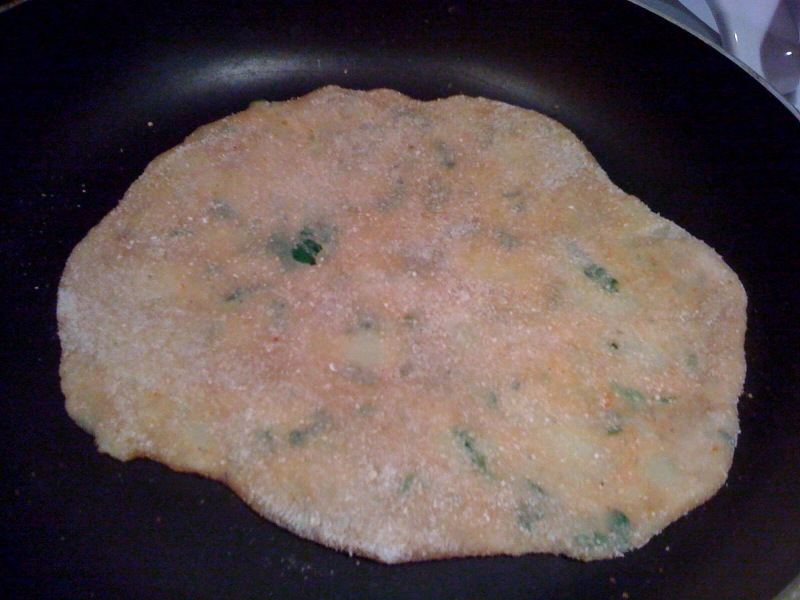aloo_paratha: (56, 92, 744, 553)
